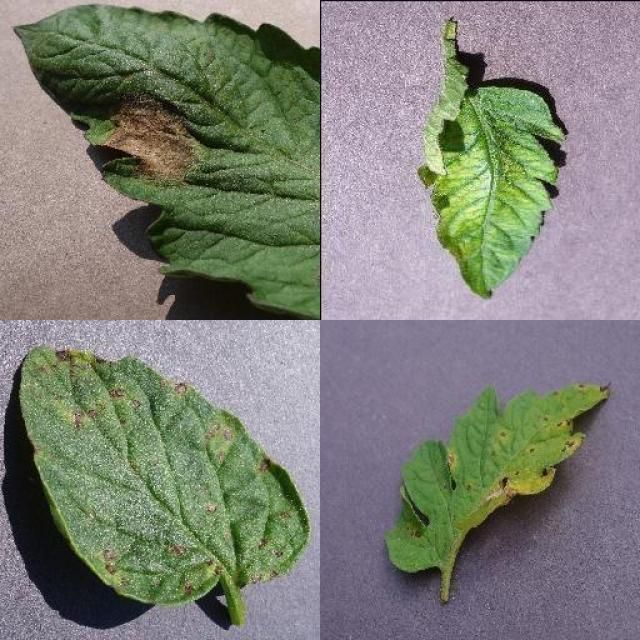Late Blight: (15, 0, 320, 320)
Septoria: (22, 339, 312, 606), (385, 380, 610, 572)
